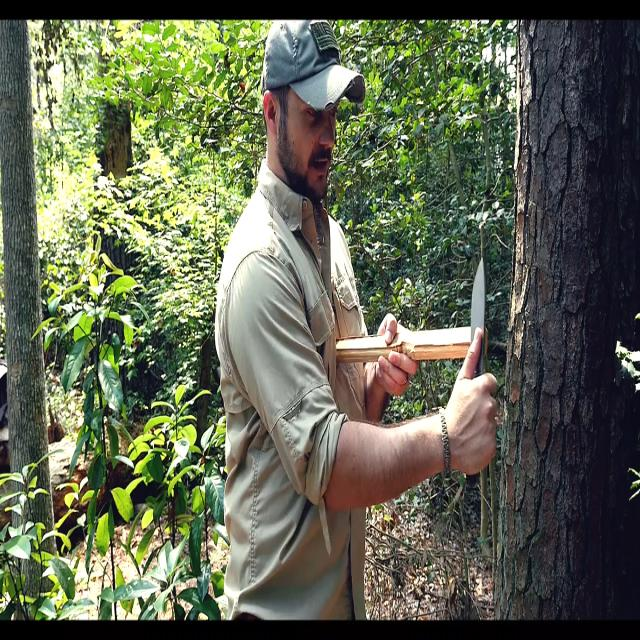knife: (471, 250, 488, 365)
